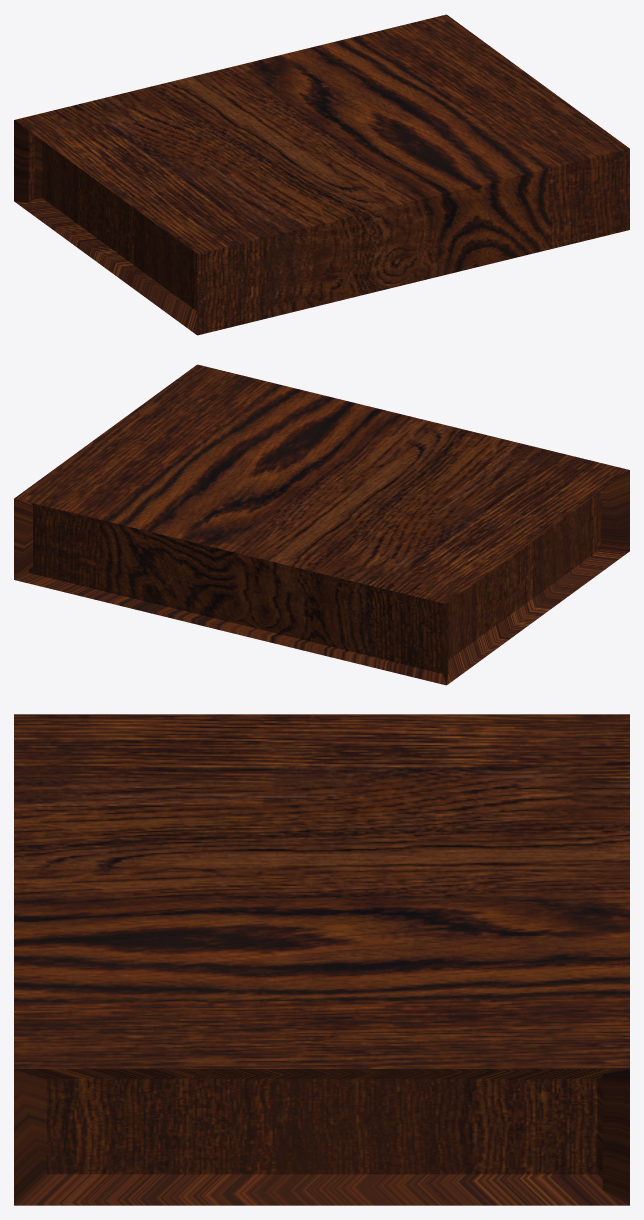
The model's file is Libro.fbx.
The picture shows the model from 3 angles, top to bottom: view 1: azimuth 30°, elevation 25°; view 2: azimuth 150°, elevation 25°; view 3: azimuth 270°, elevation 25°; orthographic projection. The views are drawn at different scales.
Visible parts, largest first — view 1: pCube1; view 2: pCube1; view 3: pCube1.
Boxes of the visible parts, x1=… form: pCube1: x1=14, y1=14, x2=629, y2=335; pCube1: x1=14, y1=364, x2=629, y2=685; pCube1: x1=14, y1=714, x2=629, y2=1205.
Size of the model in its own units: 0.5157 by 0.0926 by 0.3784.
Materials: 1 (1 with a texture image).
